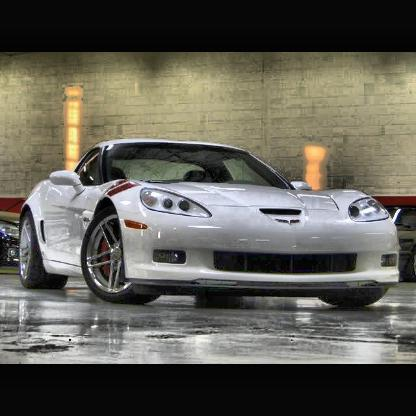Chevrolet Corvette Ron Fellows Edition Z06 2007: (15, 139, 403, 310)
